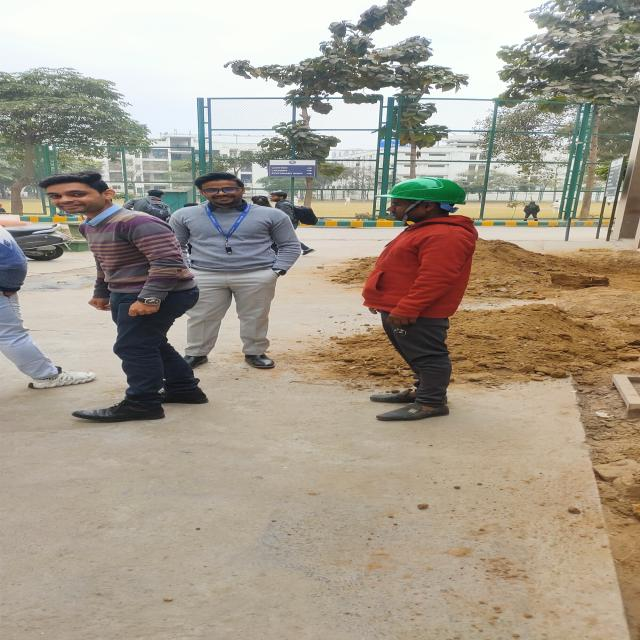no jacket: (365, 177, 478, 424)
unsafe: (44, 172, 200, 422), (180, 172, 297, 367), (268, 191, 322, 225), (123, 190, 171, 222), (524, 201, 540, 220), (551, 200, 560, 214)
